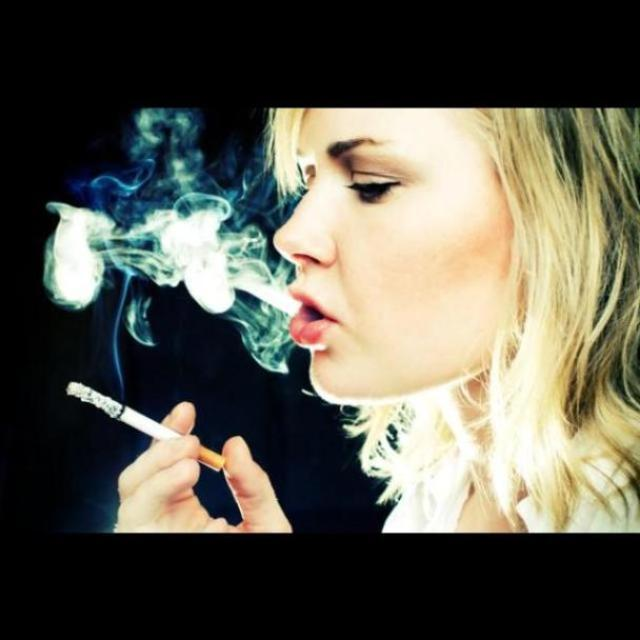rokok: (50, 375, 232, 483)
